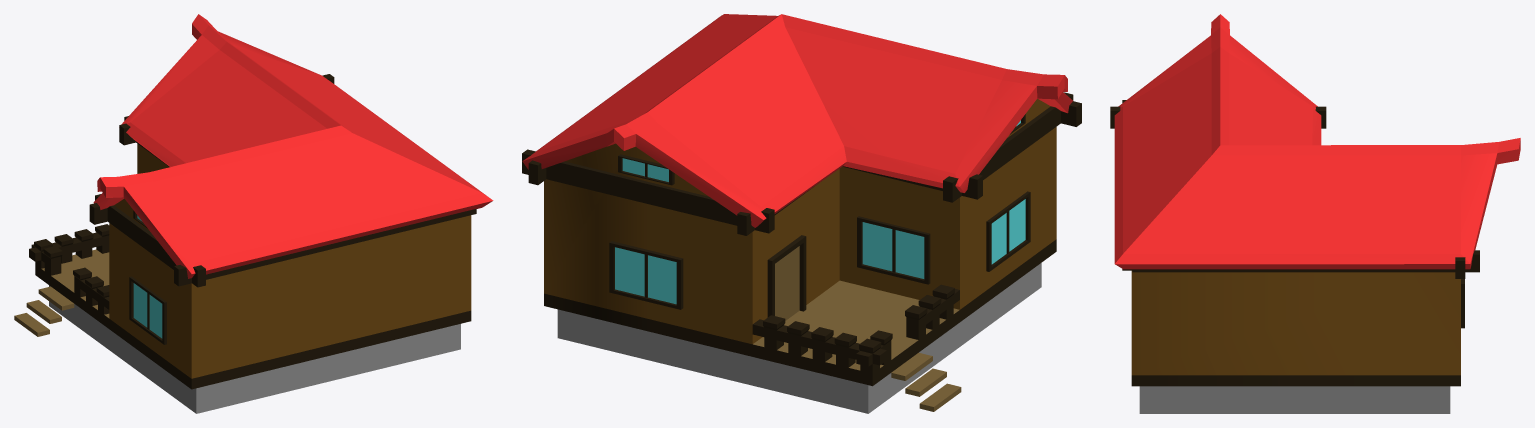
The model's file is House.FBX.
The picture shows the model from 3 angles, left to right: view 1: azimuth 30°, elevation 25°; view 2: azimuth 150°, elevation 25°; view 3: azimuth 270°, elevation 25°; orthographic projection. The views are drawn at different scales.
Parts seen in each view (by area): view 1: Box041; view 2: Box041; view 3: Box041.
Boxes of the visible parts, x1=… form: Box041: x1=14, y1=14, x2=493, y2=413; Box041: x1=522, y1=14, x2=1081, y2=413; Box041: x1=1110, y1=14, x2=1520, y2=413.
Bounding box in the file's own units: 716 × 441 × 699.
